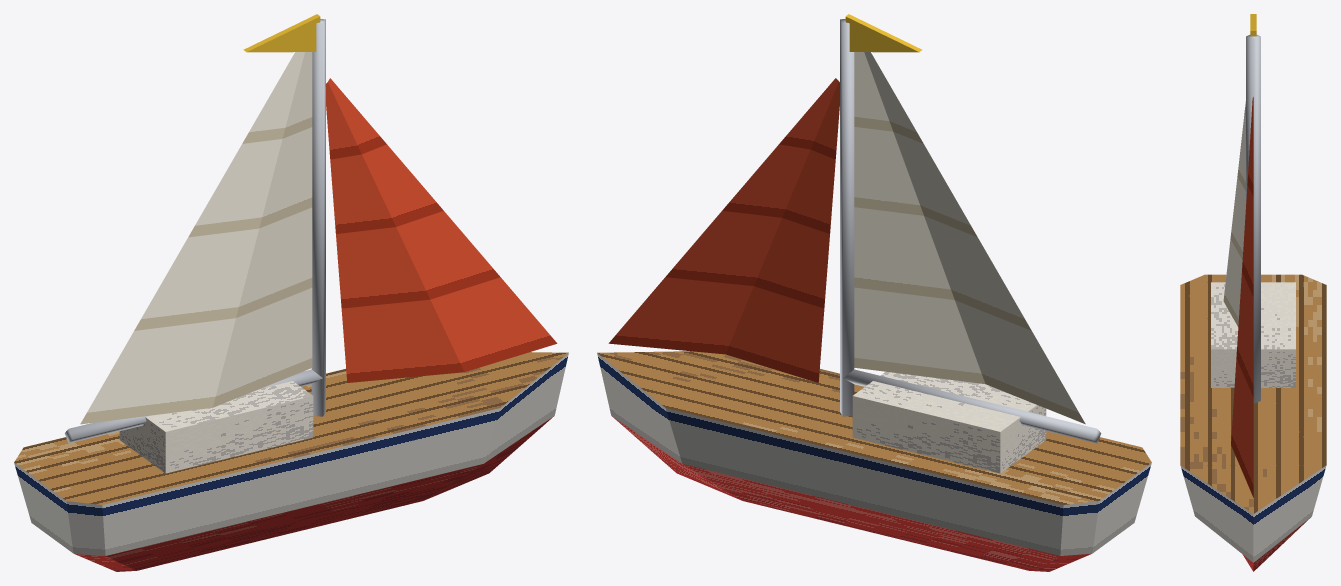
The model's file is outdoors-sailboat.glb.
3 views of the same model, side by side, from view 1: azimuth 30°, elevation 25°; view 2: azimuth 150°, elevation 25°; view 3: azimuth 270°, elevation 25° (orthographic). The views are drawn at different scales.
Visible parts, largest first — view 1: outdoors.sailboat; view 2: outdoors.sailboat; view 3: outdoors.sailboat.
Boxes of the visible parts, <box> form: outdoors.sailboat: <box>14,14,568,571</box>; outdoors.sailboat: <box>597,14,1151,571</box>; outdoors.sailboat: <box>1180,14,1326,571</box>.
Bounding box in the file's own units: 1.64 × 1.48 × 0.4221.
Materials: 8 (7 with a texture image).
